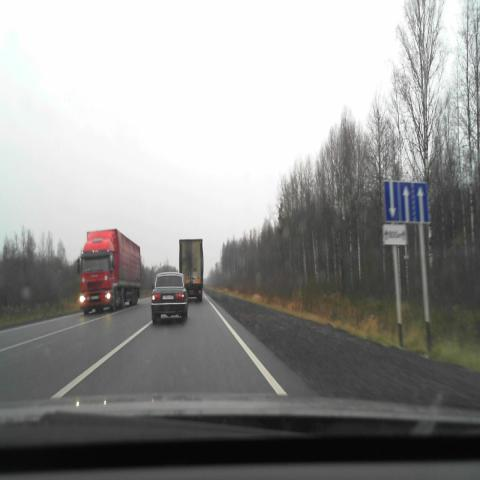5_15_7: (383, 182, 429, 224)
